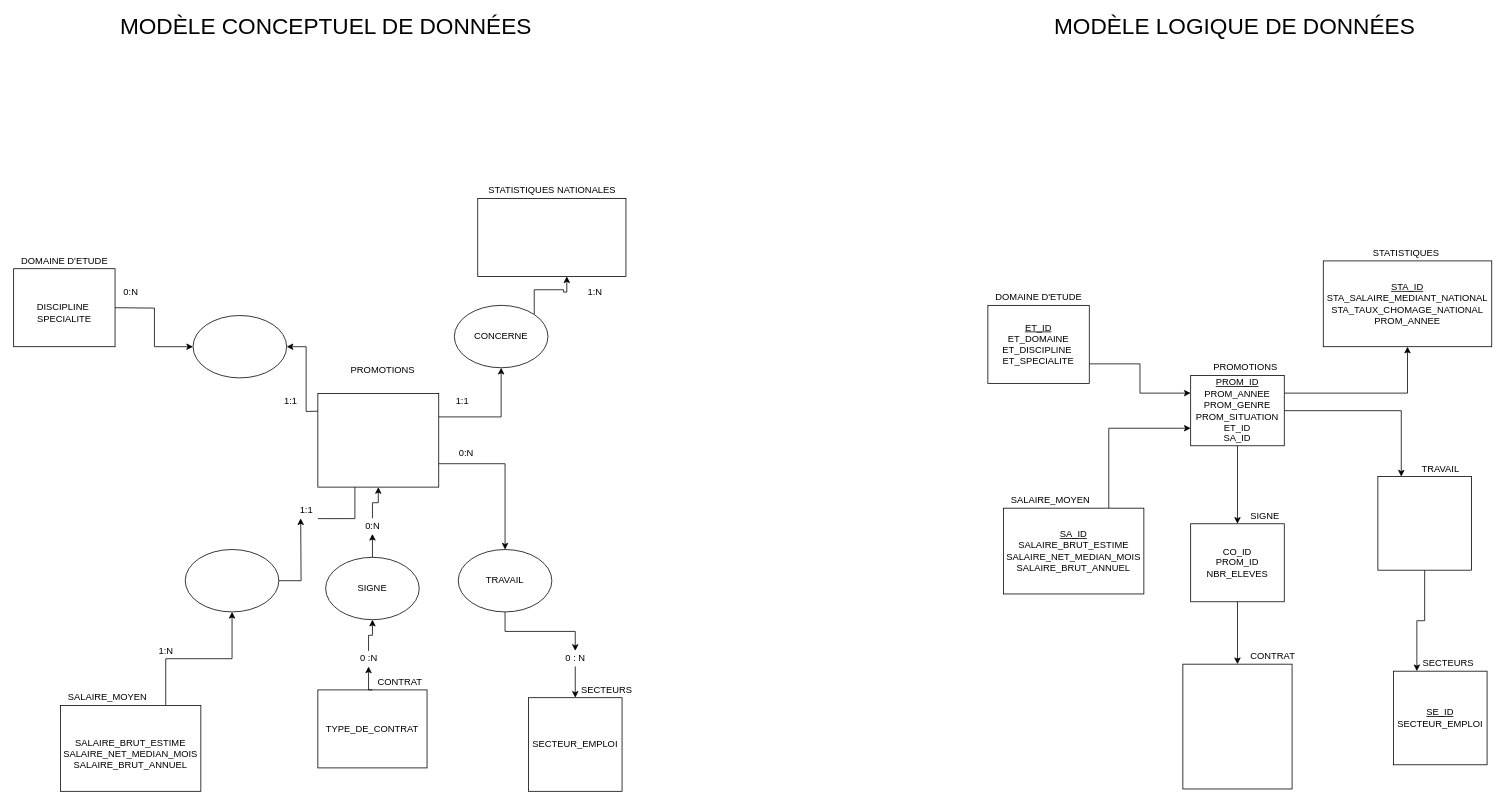
Image size: 1505x805. Some labels were removed from this diagram. The centre of each missing label's shape, as x and y in pixels:
"ANNEE GENRE DOMAINE SITUATION TAUX_INSERTION POURCENT_EXT_REGION" belongs at pixel 378 440.
"CO_ID TYPE_DE_CONTRAT" belongs at pixel 1237 726.
"ETUDIE" belongs at pixel 239 346.
"GAGNE" belongs at pixel 231 580.
"SALAIRE_MEDIANT_NATIONAL TAUX_CHOMAGE_NATIONAL" belongs at pixel 551 237.
"SE_ID PROM_ID NBR_ELEVES" belongs at pixel 1424 523.
